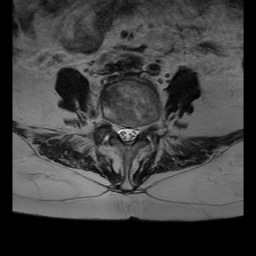CCS_normal: (124, 117, 131, 151)
LFS_normal: (139, 117, 146, 143)
LLS_normal: (131, 118, 139, 145)
RFS_normal: (108, 112, 116, 139)
RLS_normal: (116, 117, 124, 146)
